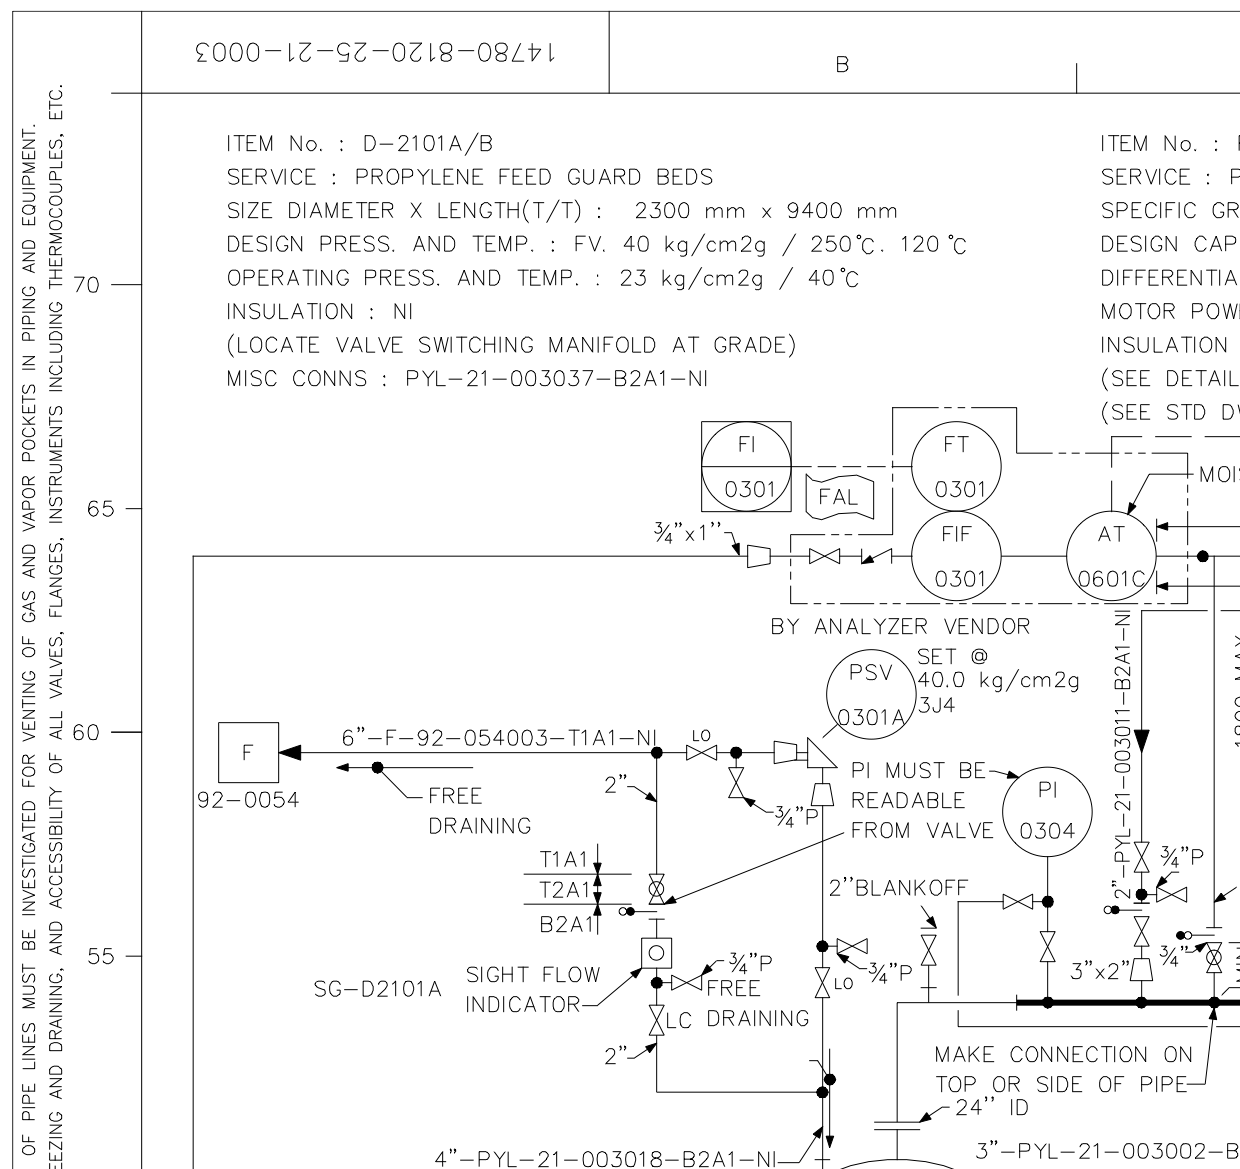Ball Valve: (646, 867, 671, 912)
Check Valve: (858, 541, 896, 570)
Intrument Tag: (696, 414, 797, 517), (905, 412, 1006, 515), (907, 506, 1008, 609)
Line Number: (338, 720, 661, 749), (431, 1144, 780, 1169), (1108, 605, 1137, 906), (974, 1139, 1240, 1164)
PSV: (804, 730, 845, 777)
Reducer: (742, 537, 779, 574)
Spetacle Blind: (1173, 923, 1229, 947), (1098, 898, 1154, 922), (617, 900, 673, 924)
Valve: (724, 764, 750, 802), (805, 544, 846, 567), (683, 741, 724, 764)
